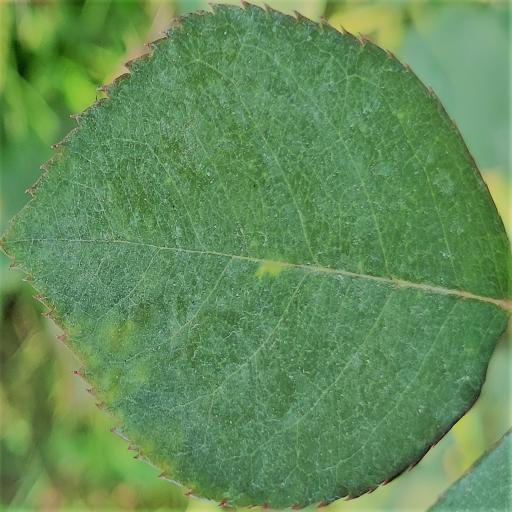healthy_leaf: (0, 2, 512, 509)
